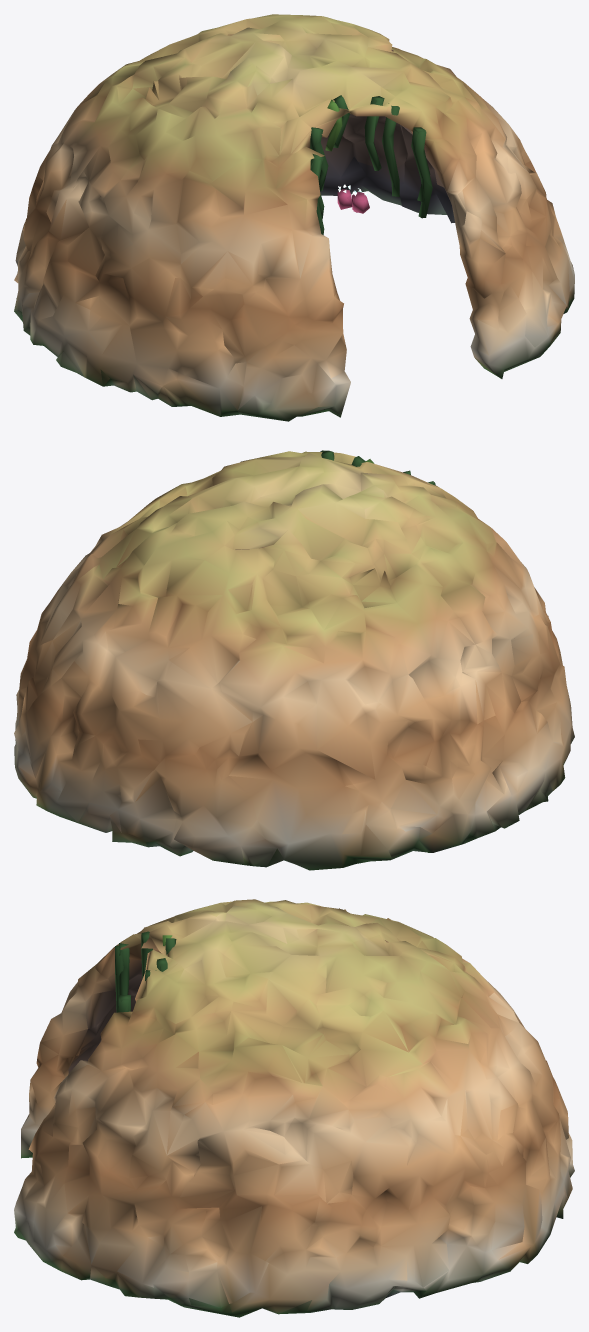
File: shore_grotto_lod1.glb
3 views of the same model, one above another, from view 1: azimuth 30°, elevation 25°; view 2: azimuth 150°, elevation 25°; view 3: azimuth 270°, elevation 25° (orthographic). The views are drawn at different scales.
Visible parts, largest first — view 1: shore_grotto.001; view 2: shore_grotto.001; view 3: shore_grotto.001.
Boxes of the visible parts, bbox=[...] form: shore_grotto.001: bbox=[14, 14, 574, 421]; shore_grotto.001: bbox=[14, 450, 574, 870]; shore_grotto.001: bbox=[14, 899, 574, 1317].
Size of the model in its own units: 33.1 by 17.17 by 32.48.
